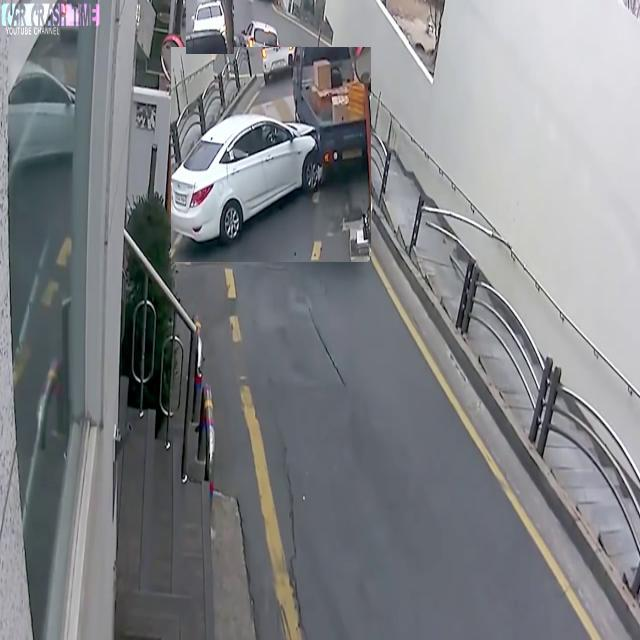car Accident: (152, 51, 370, 288)
